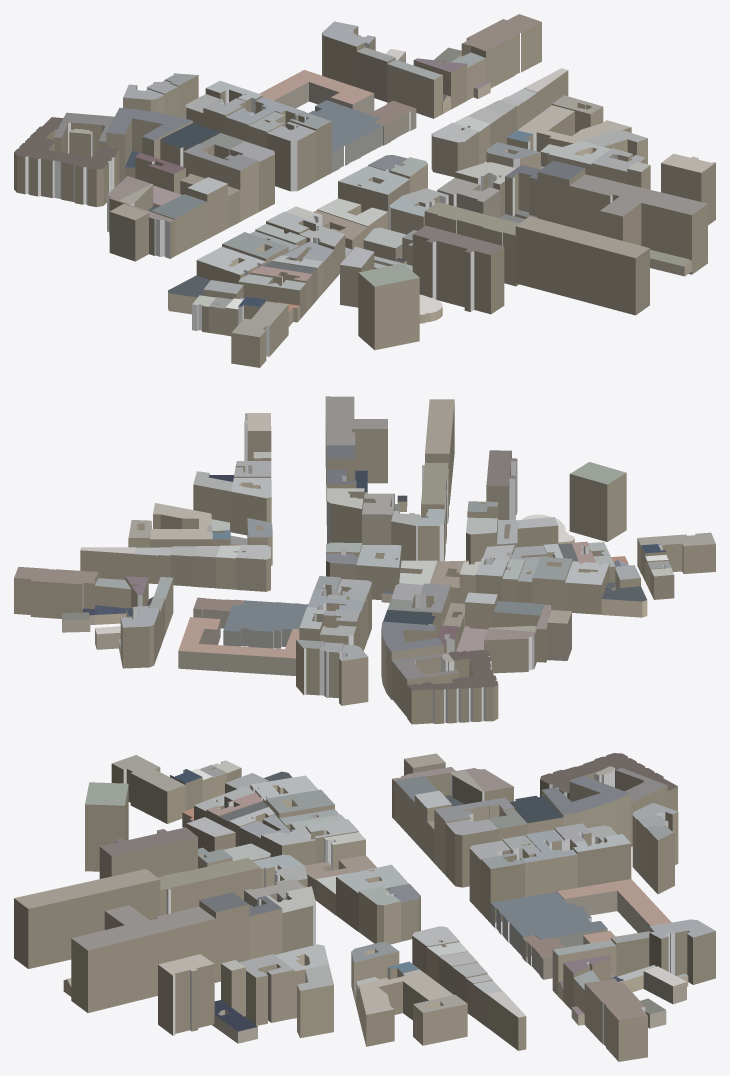
The picture shows the model from 3 angles, top to bottom: view 1: azimuth 30°, elevation 25°; view 2: azimuth 150°, elevation 25°; view 3: azimuth 270°, elevation 25°; orthographic projection. The views are drawn at different scales.
Parts seen in each view (by area): view 1: tuile; view 2: tuile; view 3: tuile.
Part boxes in pixels (x1=…): tuile: x1=14, y1=14, x2=715, y2=367; tuile: x1=14, y1=396, x2=715, y2=724; tuile: x1=14, y1=753, x2=715, y2=1061.
Bounding box in the file's own units: 275 × 36.21 × 295.
